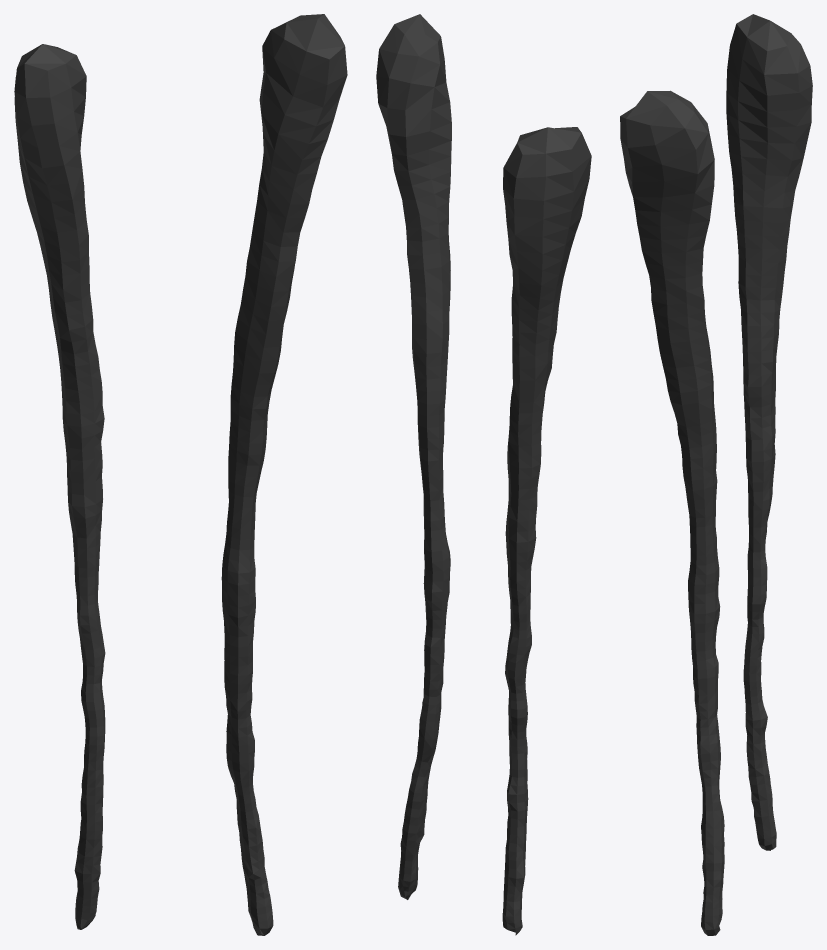
The model's file is RFL_splints.glb.
3 renders of one model, left to right at view 1: azimuth 30°, elevation 25°; view 2: azimuth 150°, elevation 25°; view 3: azimuth 270°, elevation 25°, orthographic. The views are drawn at different scales.
Parts seen in each view (by area): view 1: RFL_splints; view 2: RFL_splints; view 3: RFL_splints.
Part boxes in pixels (<box>): RFL_splints: <box>14,14,347,935</box>; RFL_splints: <box>376,14,591,935</box>; RFL_splints: <box>620,14,812,935</box>.
Bounding box in the file's own units: 12.75 × 42.79 × 8.75.
1 material, 1 textured.
